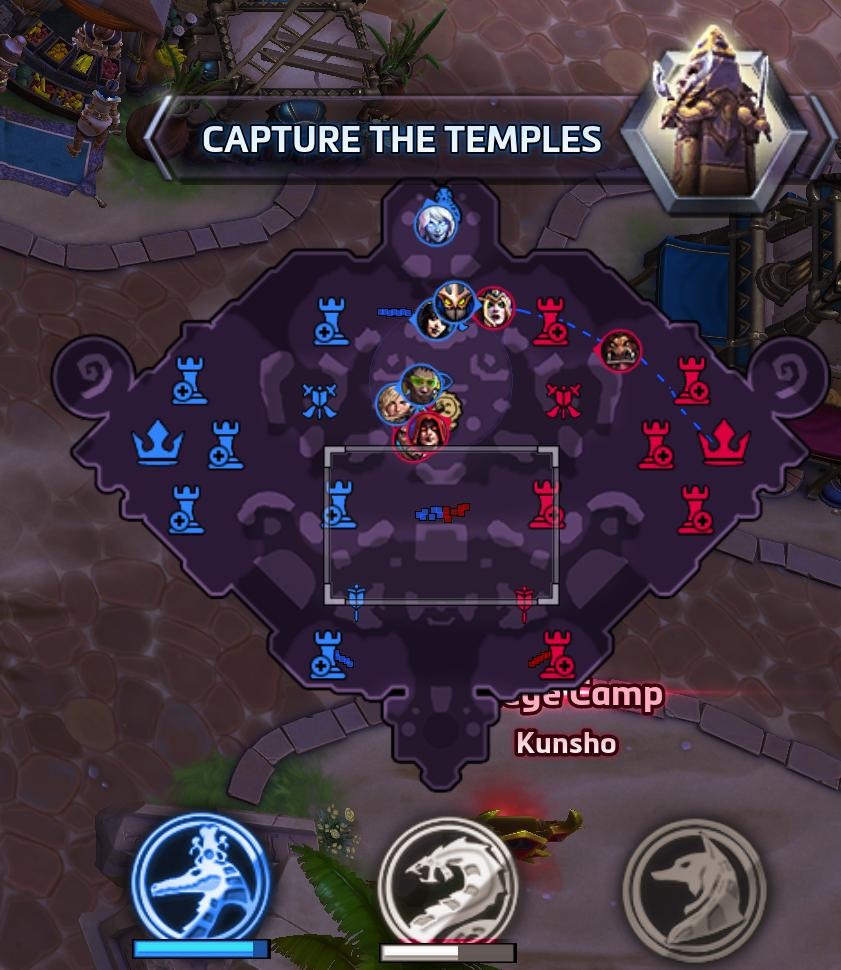blue player: (399, 363, 446, 410), (433, 280, 477, 324), (414, 201, 457, 246), (374, 383, 414, 426), (411, 299, 451, 342)
blue tower: (299, 617, 355, 685), (308, 292, 355, 351), (204, 416, 251, 473), (320, 481, 363, 532), (170, 354, 209, 405), (168, 482, 205, 534)
red nexus: (698, 419, 752, 466)
red player: (597, 328, 642, 372), (475, 285, 514, 330), (391, 422, 429, 461), (409, 412, 449, 449), (431, 389, 463, 429)
red tower: (537, 620, 579, 685), (669, 353, 711, 408), (531, 293, 570, 347), (636, 419, 675, 471), (528, 477, 566, 530), (676, 483, 714, 535)
